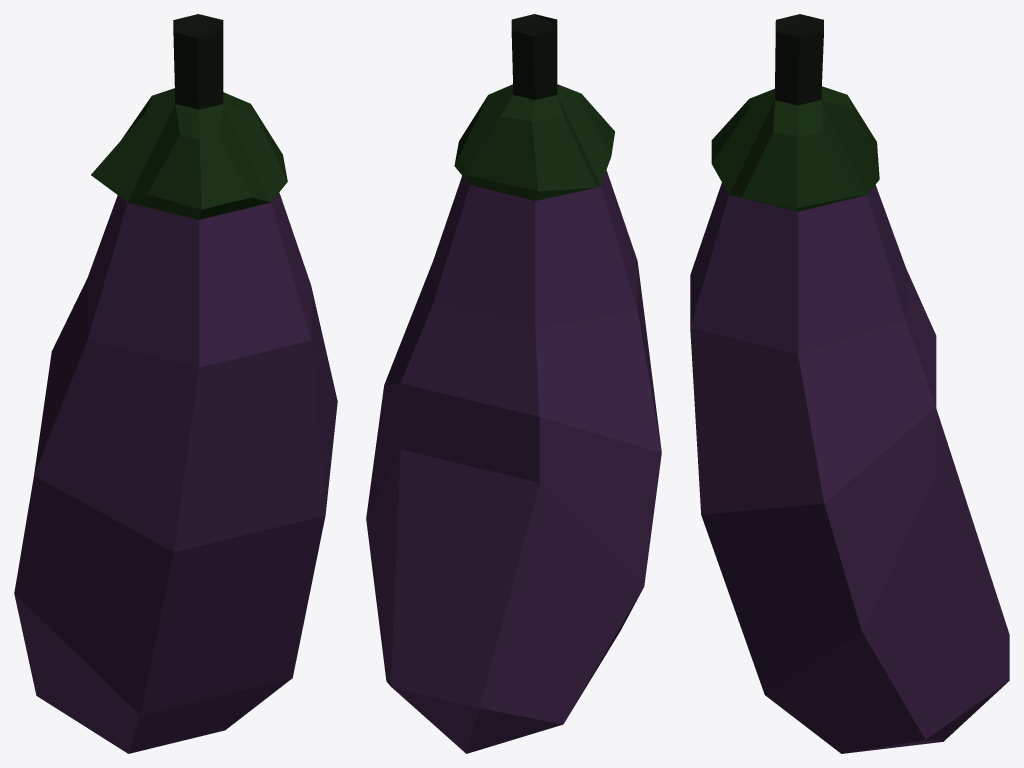
The picture shows the model from 3 angles, left to right: view 1: azimuth 30°, elevation 25°; view 2: azimuth 150°, elevation 25°; view 3: azimuth 270°, elevation 25°; orthographic projection. The views are drawn at different scales.
Parts seen in each view (by area): view 1: 茄子_pCylinder4; view 2: 茄子_pCylinder4; view 3: 茄子_pCylinder4.
Part boxes in pixels (box(x1,y1,x2,y2)): 茄子_pCylinder4: box(14, 14, 337, 753); 茄子_pCylinder4: box(366, 14, 661, 753); 茄子_pCylinder4: box(690, 14, 1009, 753).
Bounding box in the file's own units: 2.8 × 2.65 × 6.54.
